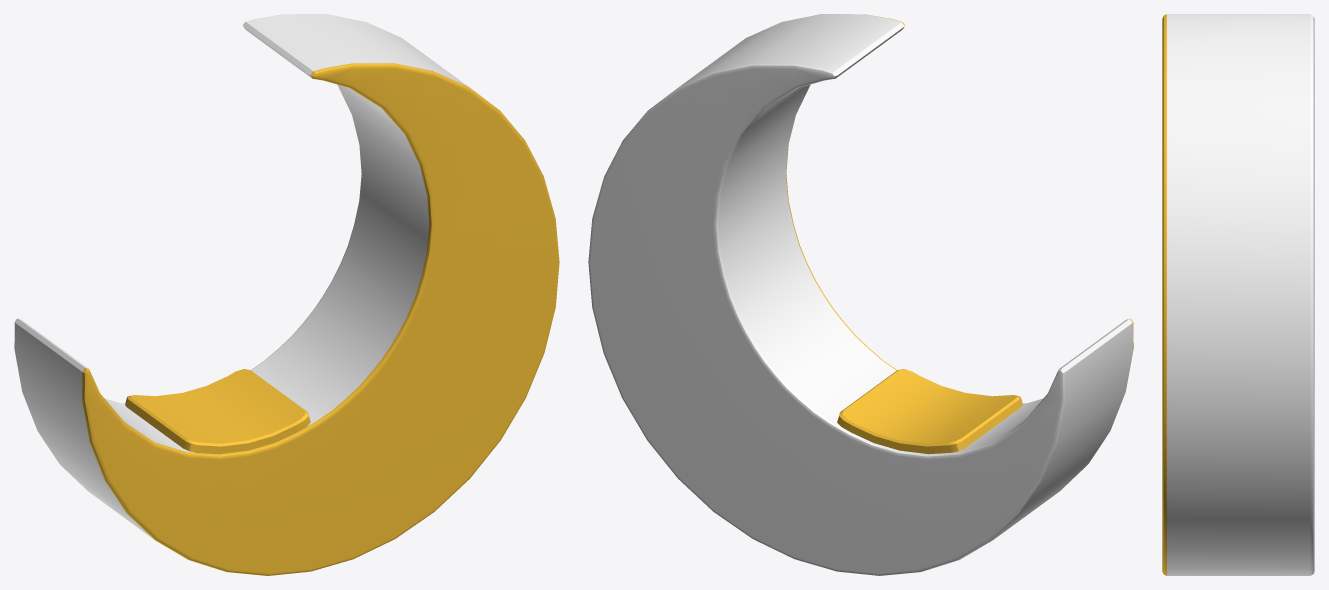
File: Photoshoot_Prop_02.fbx
3 views of the same model, side by side, from view 1: azimuth 30°, elevation 25°; view 2: azimuth 150°, elevation 25°; view 3: azimuth 270°, elevation 25° (orthographic). The views are drawn at different scales.
Parts seen in each view (by area): view 1: Moon_M, Pillow; view 2: Moon_M, Pillow; view 3: Moon_M.
Part boxes in pixels (left/top/right/bottom): Moon_M: left=14, top=14, right=559, bottom=575; Pillow: left=125, top=369, right=310, bottom=454; Moon_M: left=588, top=14, right=1133, bottom=575; Pillow: left=837, top=369, right=1022, bottom=454; Moon_M: left=1162, top=14, right=1314, bottom=575.
Bounding box in the file's own units: 122 × 122 × 31.74.
1 material, 1 textured.
